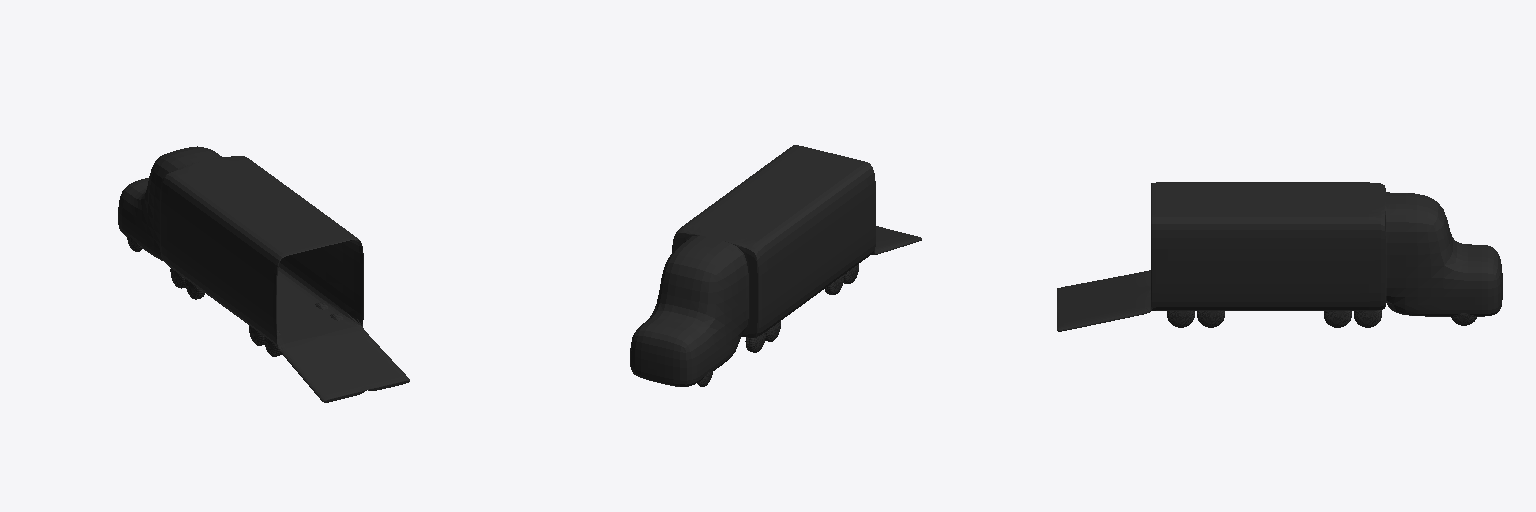
Rendered from truck.obj.
3 views of the same model, side by side, from view 1: azimuth 30°, elevation 25°; view 2: azimuth 150°, elevation 25°; view 3: azimuth 270°, elevation 25° (orthographic).
Visible parts, largest first — view 1: 2_truck_Cube.002; view 2: 2_truck_Cube.002; view 3: 2_truck_Cube.002.
Boxes of the visible parts, box(x1,y1,x2,y2) form: 2_truck_Cube.002: box(118, 146, 409, 402); 2_truck_Cube.002: box(630, 145, 921, 386); 2_truck_Cube.002: box(1057, 182, 1502, 331).
Bounding box in the file's own units: 36.28 × 43.62 × 157.